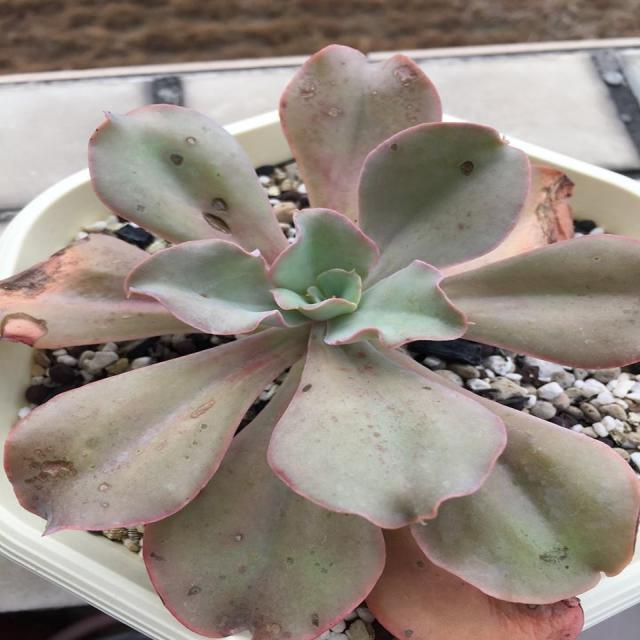-: (0, 259, 72, 294), (24, 454, 83, 490), (0, 311, 52, 346), (201, 210, 233, 234), (207, 198, 232, 212), (457, 158, 476, 176), (94, 478, 114, 494), (169, 152, 187, 168), (299, 380, 315, 395), (231, 530, 247, 544), (412, 558, 428, 572), (400, 627, 415, 639), (134, 203, 149, 215), (98, 500, 112, 510), (388, 142, 400, 152), (186, 137, 198, 146)
